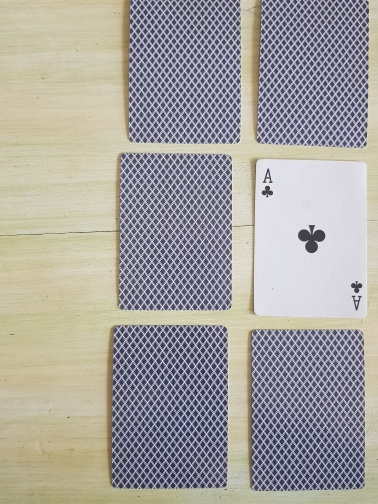ace: (253, 159, 369, 320)
